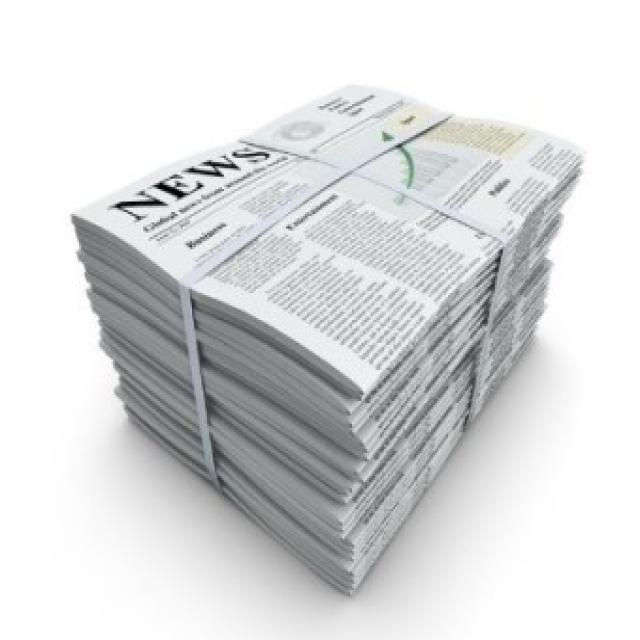Newspaper: (74, 76, 584, 602)
